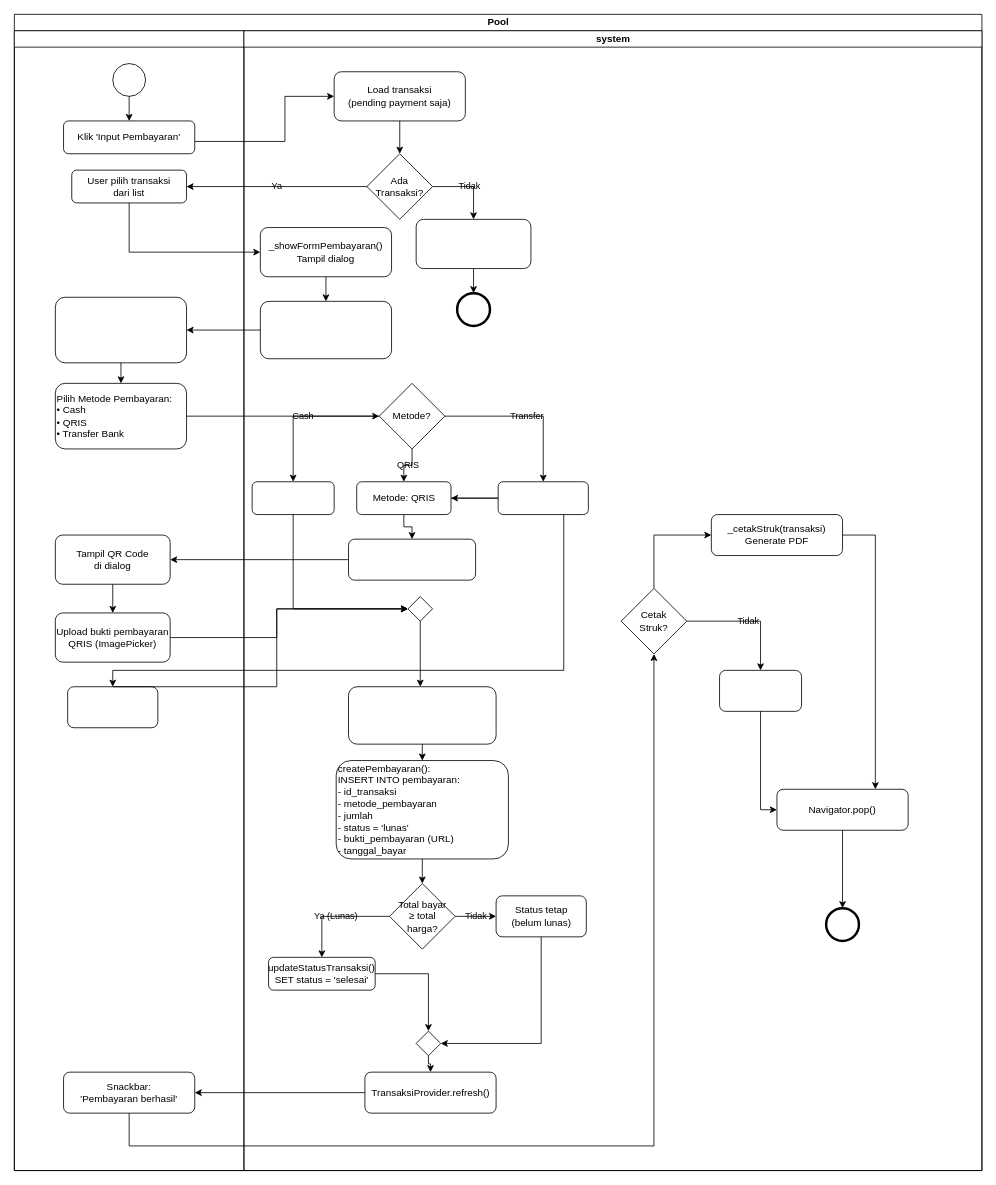
Some shapes in this 996 by 1185 pixel diagram are drawn without their labels. Each missing label, with the box of its shape:
getPembayaranBy TransaksiId() Hitung sisa bayar: (260, 301, 392, 359)
IF bukti exist: Upload to Supabase Storage (bukti_pembayaran/): (348, 686, 496, 744)
kasir: (14, 30, 244, 1171)
Metode: CASH Input nominal bayar: (251, 481, 334, 515)
Metode: TRANSFER: (497, 481, 588, 515)
QrisService .generateQrisCode(amount): (348, 538, 476, 580)
Skip: (719, 670, 802, 711)
Snackbar: 'Tidak ada transaksi yang perlu dibayar': (415, 219, 531, 269)
Tampil info: - Total tagihan - Sudah dibayar - Sisa bayar: (55, 296, 187, 363)
Upload bukti transfer (ImagePicker): (67, 686, 158, 728)
